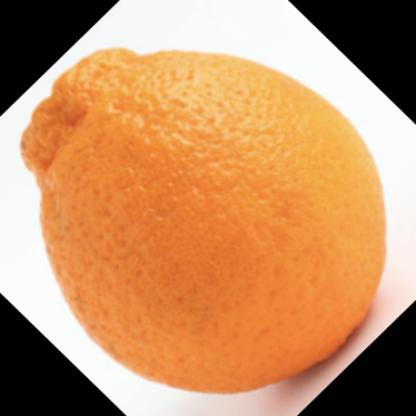fresh: (19, 46, 386, 395)
